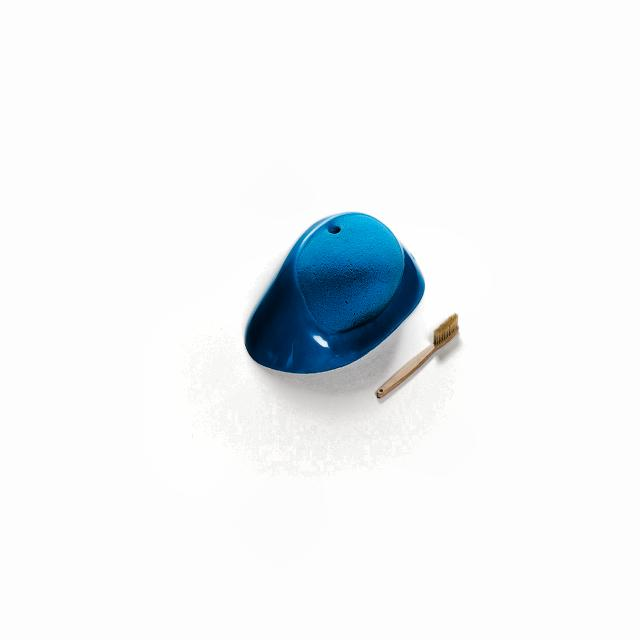Hold: (234, 211, 429, 378)
